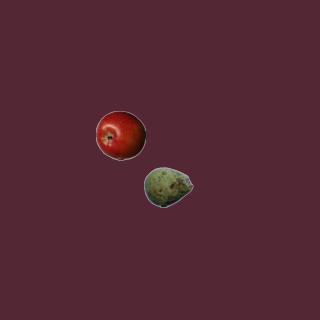Apple Braeburn: (95, 110, 145, 160)
Pear Stone: (143, 162, 193, 212)
